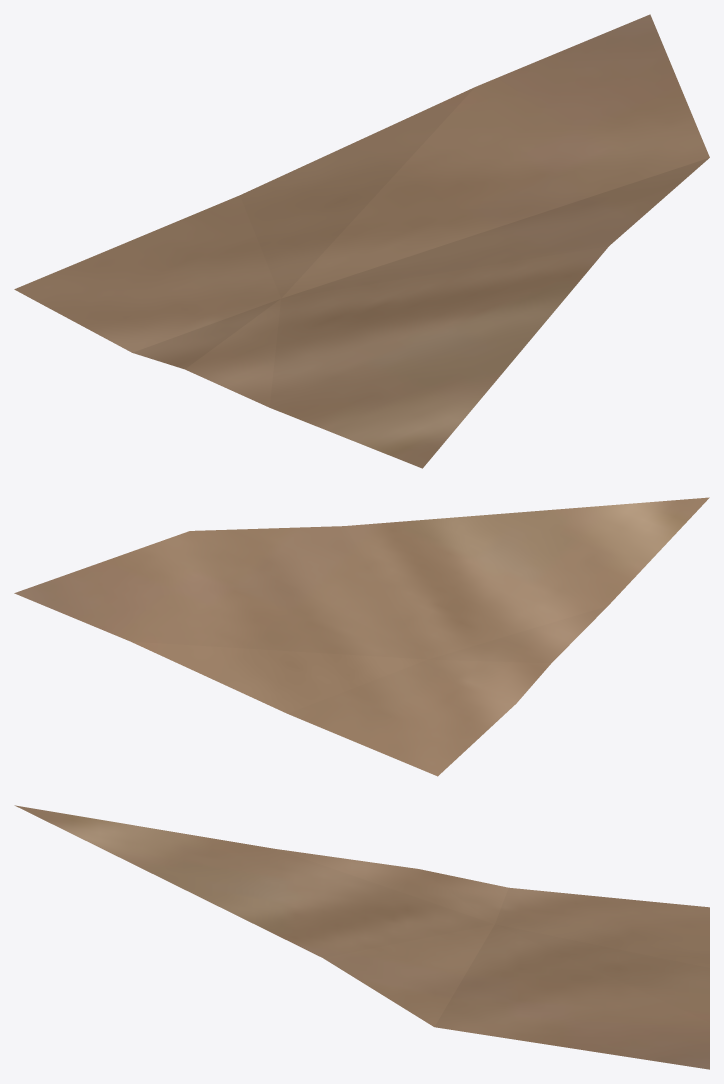
The picture shows the model from 3 angles, top to bottom: view 1: azimuth 30°, elevation 25°; view 2: azimuth 150°, elevation 25°; view 3: azimuth 270°, elevation 25°; orthographic projection. The views are drawn at different scales.
Size of the model in its own units: 0.1763 by 0.0317 by 0.1961.
1 material, 1 textured.
